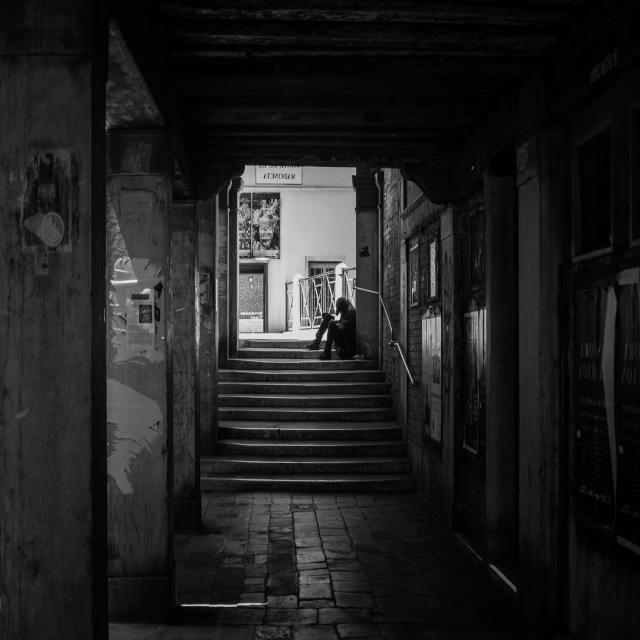adult: (308, 293, 356, 364)
